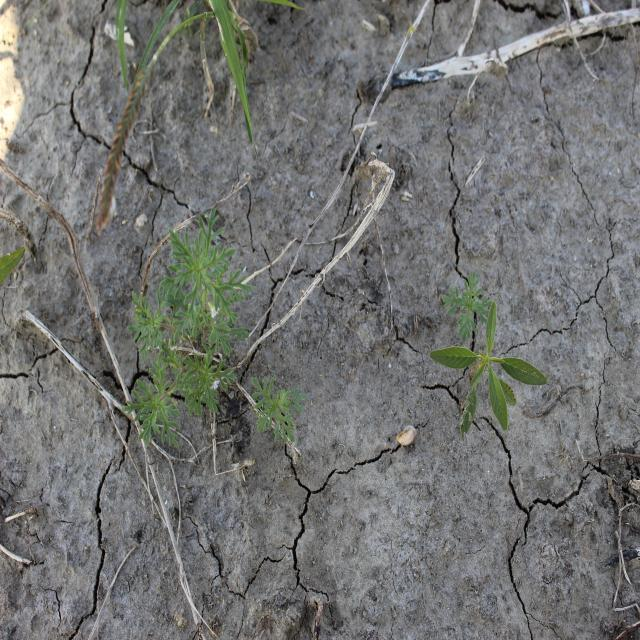Ragweed: (122, 205, 255, 452), (249, 371, 308, 445), (440, 268, 495, 346)
Waterhemp: (428, 297, 548, 442)
